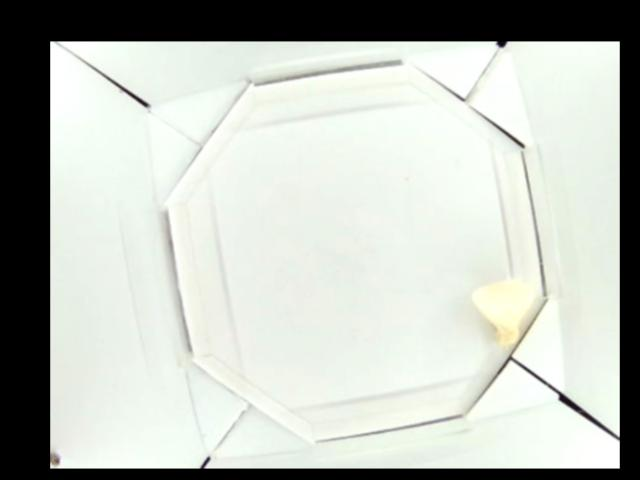Mooli: (470, 275, 535, 348)
